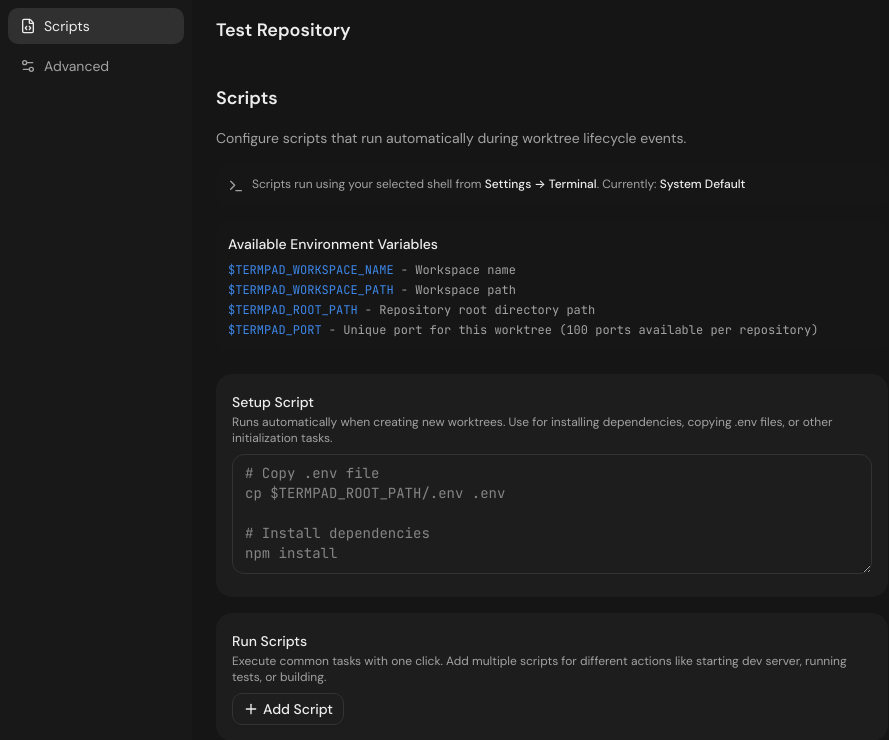
Test: RepositorySettingsOverlay › run scripts › deletes a run script when delete button is clicked
# Add a script
Click the button with test id "add-run-script-button" at (288, 709), box [232,693,344,725]
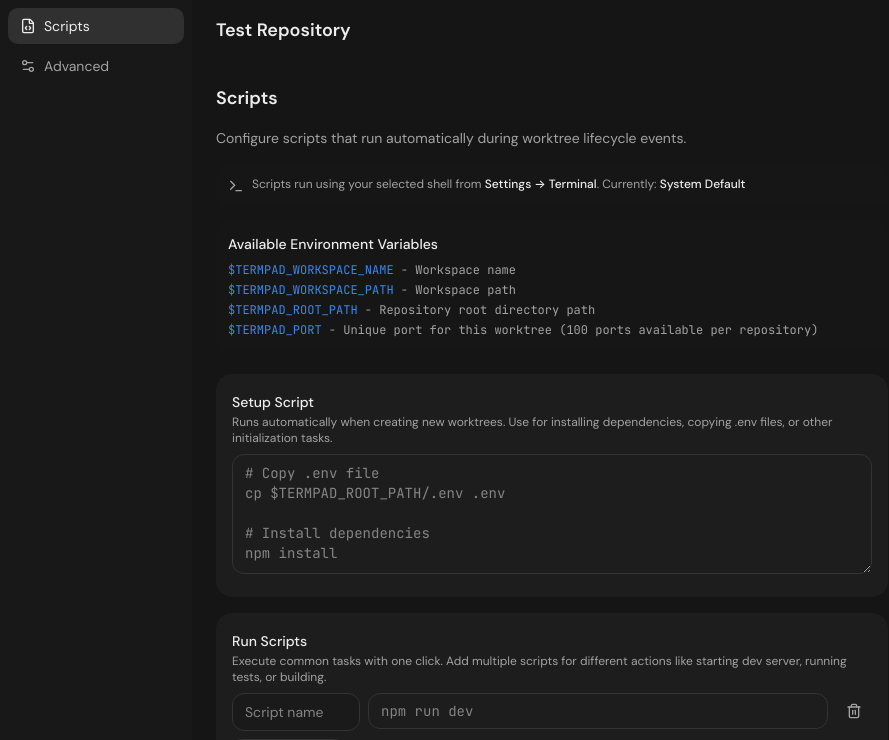
Expected: the element with test id "run-script-0" is shown, [232,693,872,731]
# Delete it
Click the button with test id "run-script-delete-0" at (854, 711), box [836,693,872,729]
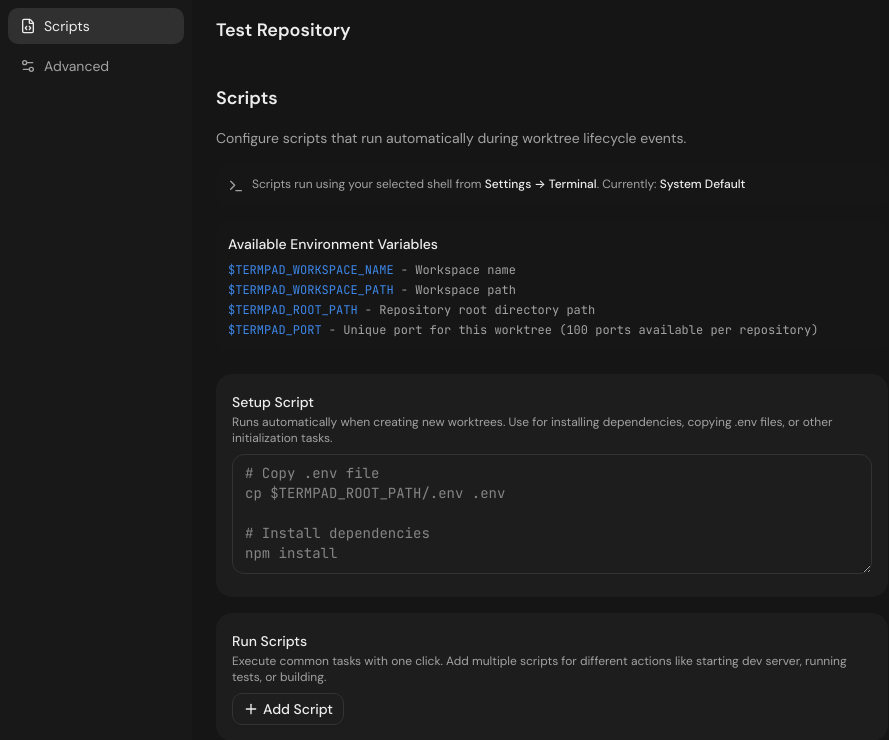
Expected: the element with test id "run-script-0" is gone
